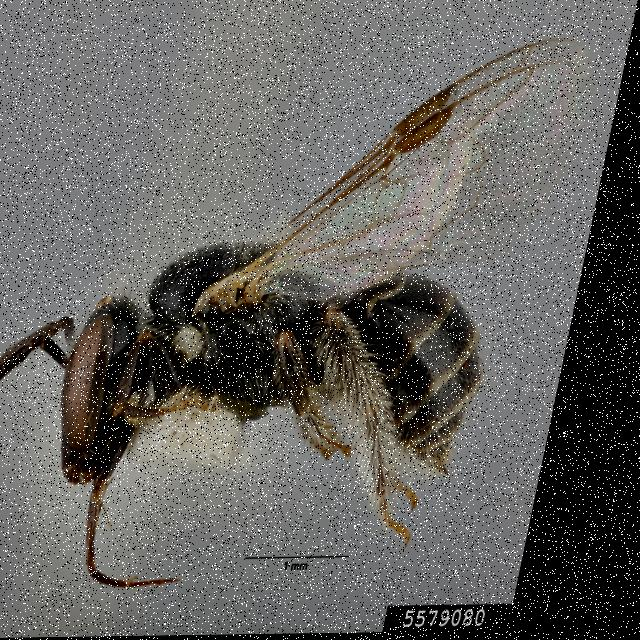Braunsapis: (0, 22, 589, 564)
